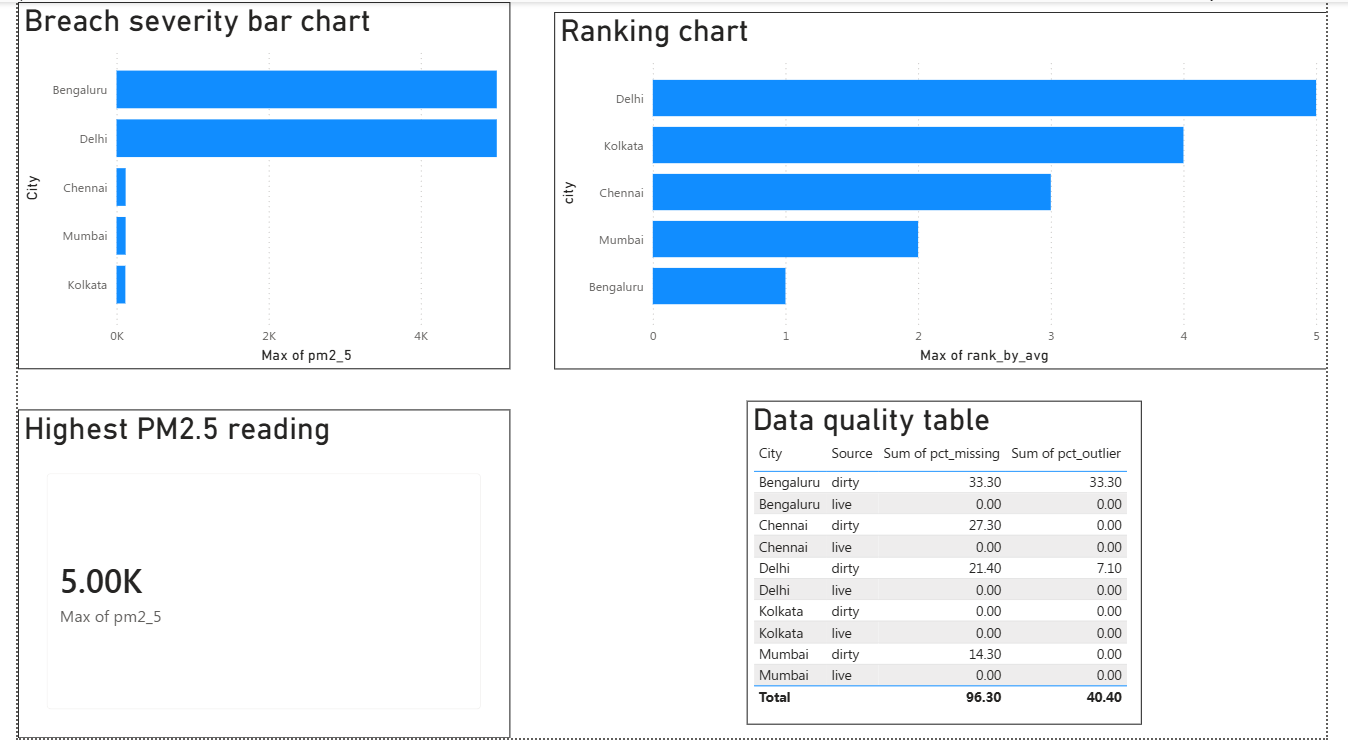

What the dashboard file says about the page in this screenshot:
{"tool":"powerbi","page":{"name":"breaches","canvas":[1280,720],"ordinal":0},"visuals":[{"type":"clusteredBarChart","title":"Breach severity bar chart","fields":{"Category":["breaches.city"],"Y":["Max(breaches.pm2_5)"]},"box":[0,0,481.8,359.5],"z":0},{"type":"cardVisual","title":"Highest PM2.5 reading","fields":{"Data":["Max(breaches.pm2_5)"]},"box":[0,398.6,481.8,321.6],"z":1},{"type":"barChart","title":"Ranking chart","fields":{"Category":["ranking.city"],"Y":["Max(ranking.rank_by_avg)"]},"box":[524.6,9.8,755.7,349.7],"z":3},{"type":"tableEx","title":"Data quality table","fields":{"Values":["data_quality.city","data_quality.source","Sum(data_quality.pct_missing)","Sum(data_quality.pct_outlier)"]},"box":[712.9,390.1,386.4,316.7],"z":4}]}

Visuals, with their boxes in screenshot pixels (x1, y1, x2, y2), scaled from the page's 1280x720 canvas onto the 1348x748 screenshot:
"Breach severity bar chart" clusteredBarChart: box(0, 0, 507, 373)
"Highest PM2.5 reading" cardVisual: box(0, 414, 507, 747)
"Ranking chart" barChart: box(552, 10, 1347, 373)
"Data quality table" tableEx: box(751, 405, 1158, 734)
